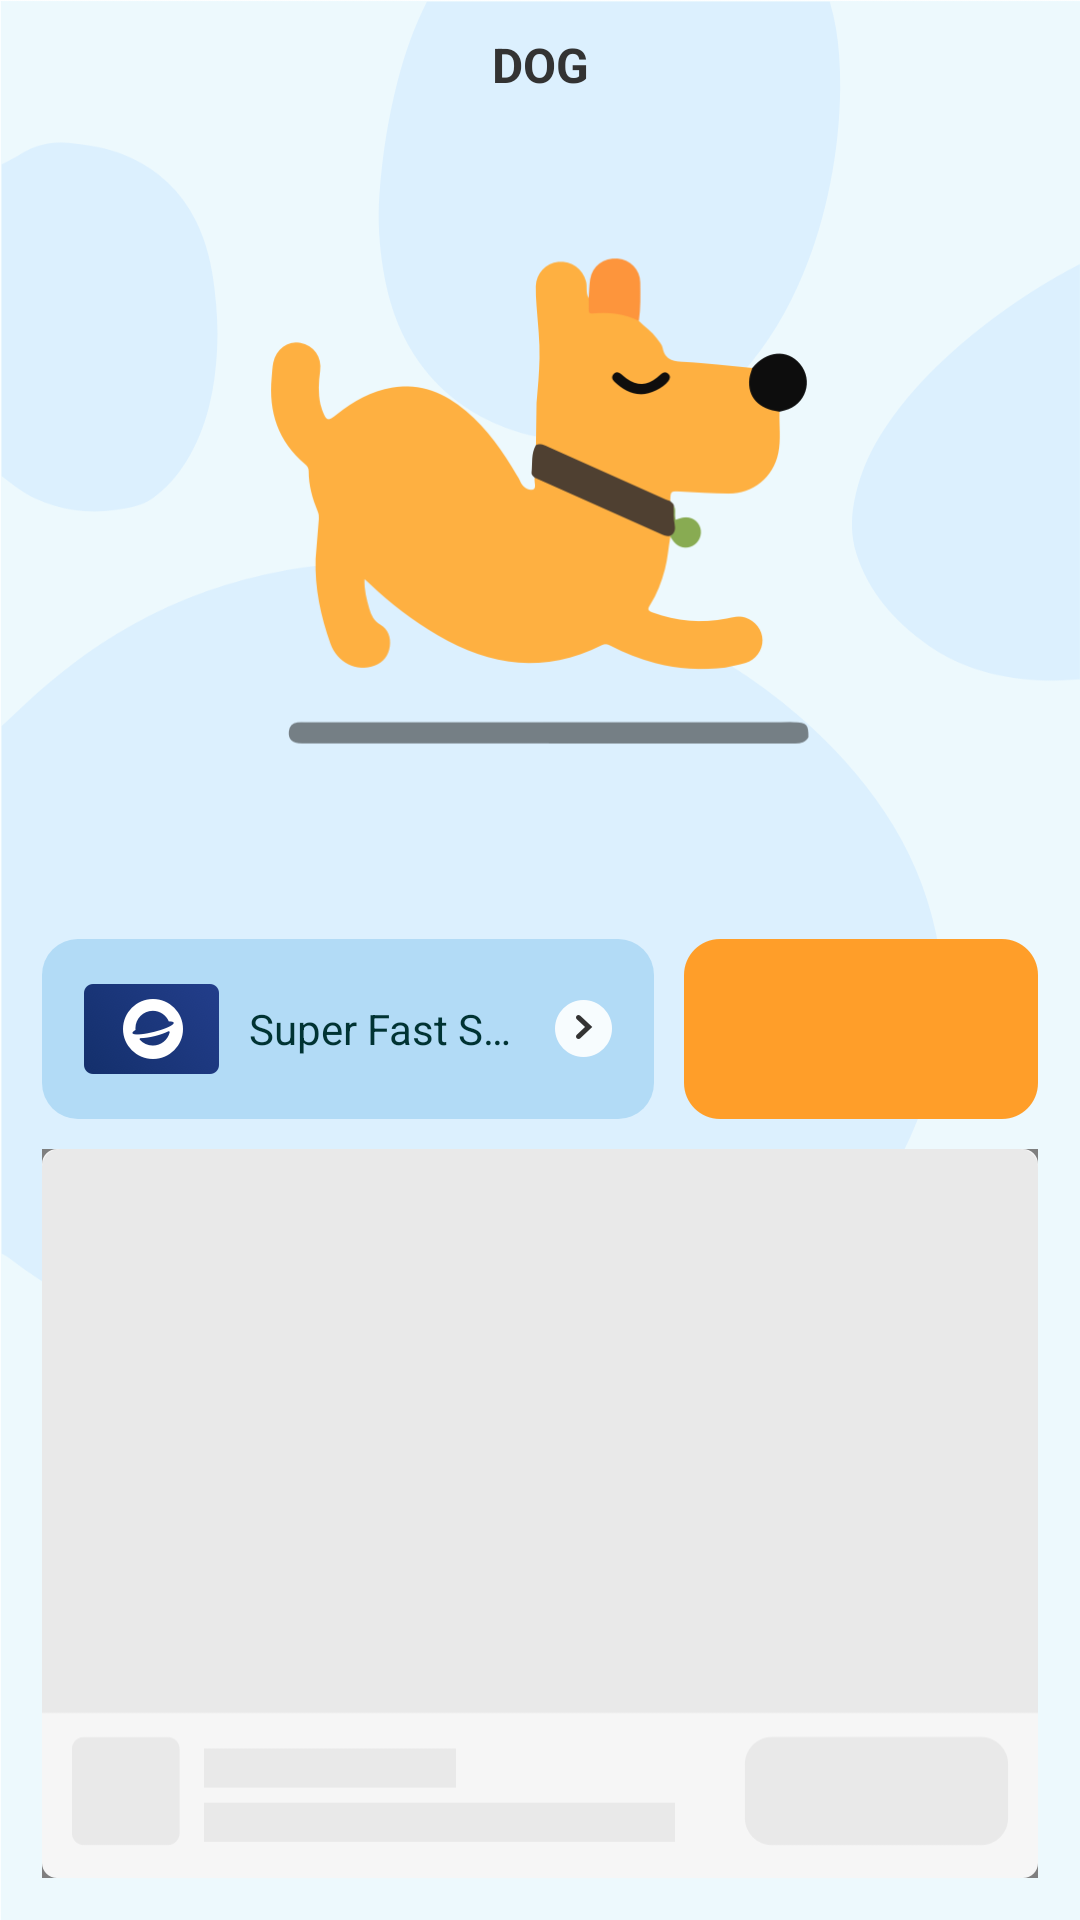

Where icons sit on this 1080px×1920px app screen, as [x1,y1,x2,y2]:
right: [555,1000,612,1057]
